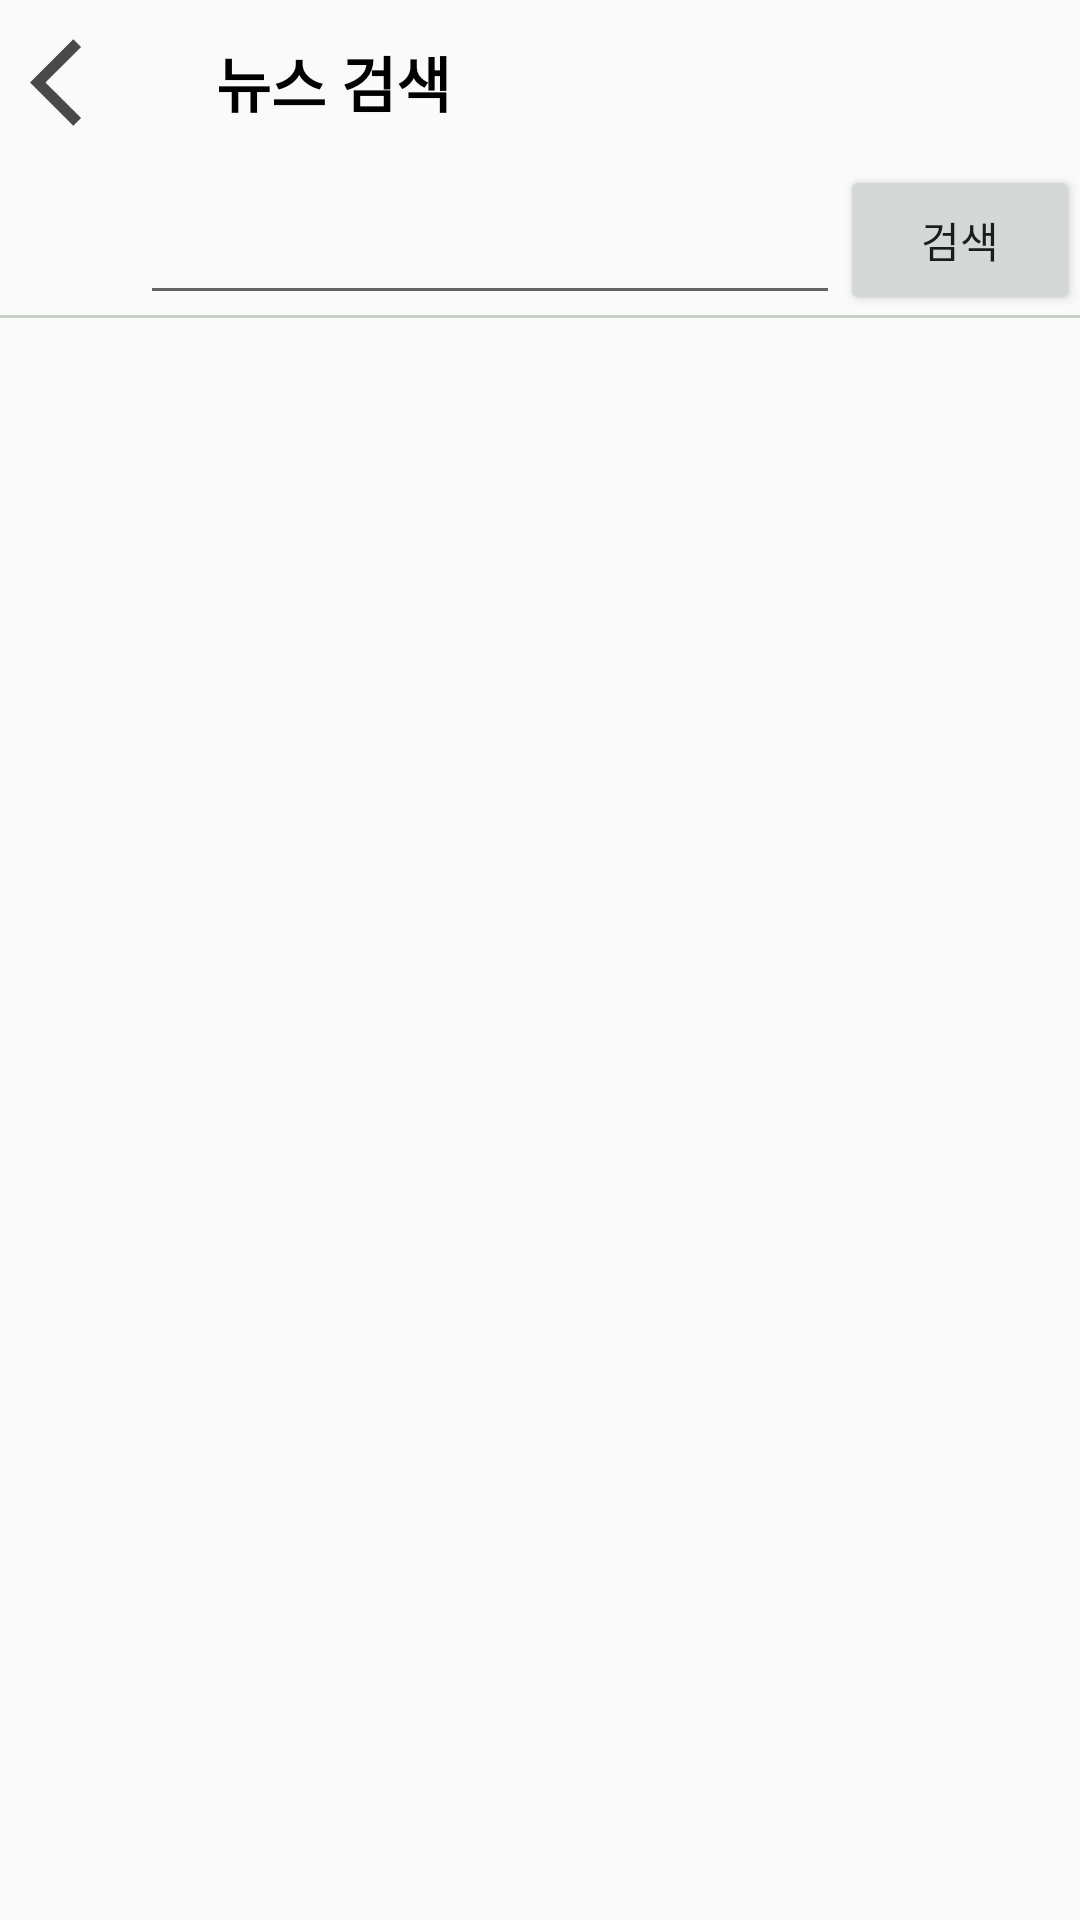

Locate icon controls on the screen. Image size 1080px×1920px, boxes as box(x1, y1, x2, y2).
arrow back: box(30, 39, 81, 126)
